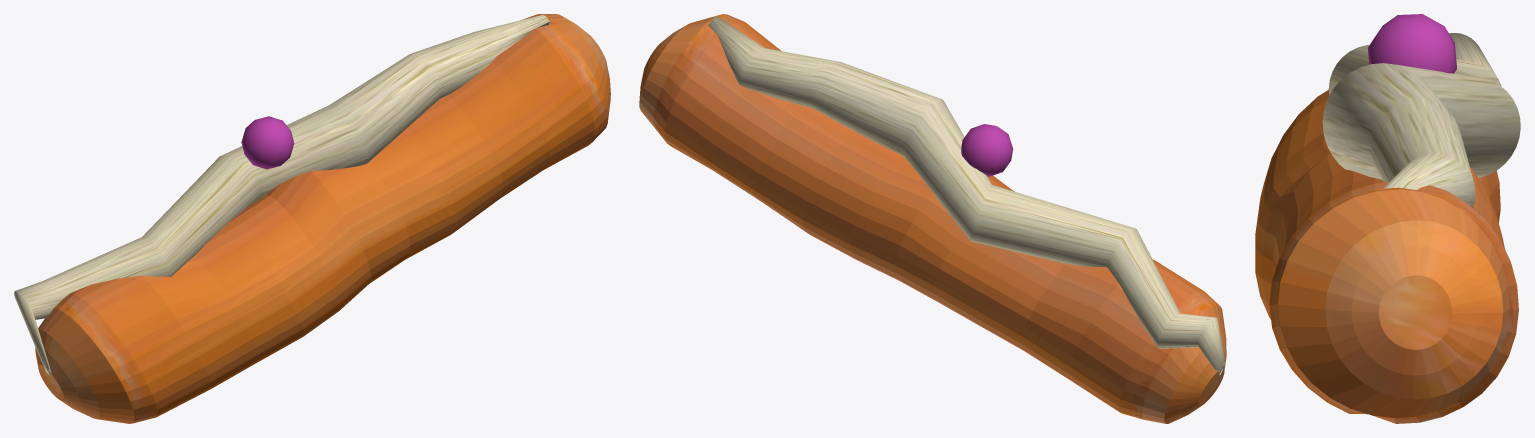
File: doughnutRoll.glb
3 views of the same model, side by side, from view 1: azimuth 30°, elevation 25°; view 2: azimuth 150°, elevation 25°; view 3: azimuth 270°, elevation 25° (orthographic). The views are drawn at different scales.
Parts seen in each view (by area): view 1: Cylinder, Cylinder.001, Icosphere; view 2: Cylinder, Cylinder.001, Icosphere; view 3: Cylinder, Cylinder.001, Icosphere.
Part boxes in pixels (x1,y1,x2,y2): Cylinder: (35, 14, 610, 423); Cylinder.001: (14, 15, 551, 375); Icosphere: (241, 116, 294, 169); Cylinder: (639, 14, 1226, 423); Cylinder.001: (708, 16, 1225, 374); Icosphere: (961, 124, 1013, 176); Cylinder: (1255, 90, 1518, 423); Cylinder.001: (1322, 33, 1520, 207); Icosphere: (1368, 14, 1456, 73).
Bounding box in the file's own units: 0.151 × 0.074 × 0.0355.
3 materials, 3 textured.
